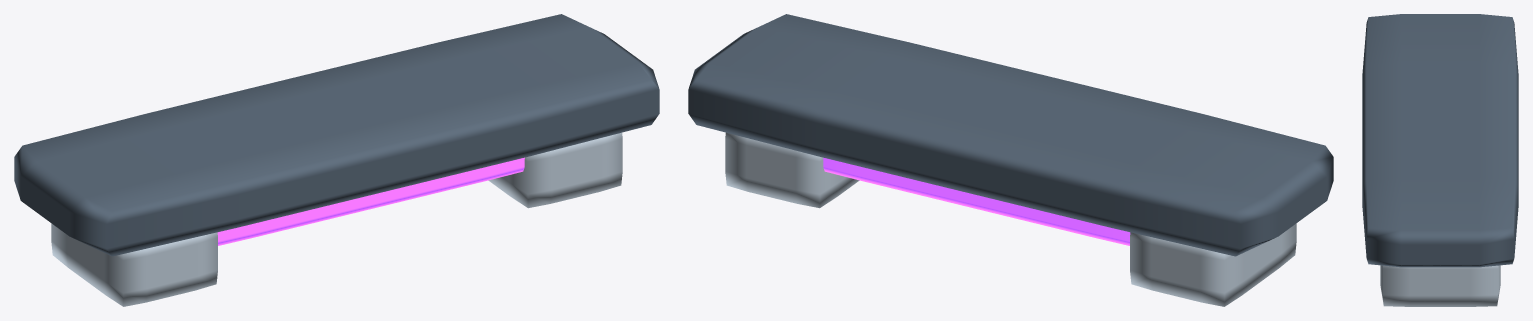
File: hoverboard-neon.glb
3 renders of one model, left to right at view 1: azimuth 30°, elevation 25°; view 2: azimuth 150°, elevation 25°; view 3: azimuth 270°, elevation 25°, orthographic. The views are drawn at different scales.
Visible parts, largest first — view 1: Deck, ThrusterL, ThrusterR, Glow; view 2: Deck, ThrusterL, ThrusterR, Glow; view 3: Deck, ThrusterR.
Boxes of the visible parts, x1,y1,x2,y2 form: Deck: (14, 14, 659, 256); ThrusterL: (51, 223, 217, 306); ThrusterR: (488, 132, 622, 208); Glow: (217, 157, 524, 245); Deck: (688, 14, 1333, 256); ThrusterL: (1130, 223, 1296, 306); ThrusterR: (725, 132, 859, 208); Glow: (823, 157, 1130, 245); Deck: (1362, 14, 1518, 267); ThrusterR: (1380, 265, 1500, 306).
Size of the model in its own units: 2.25 by 0.41 by 0.65.
